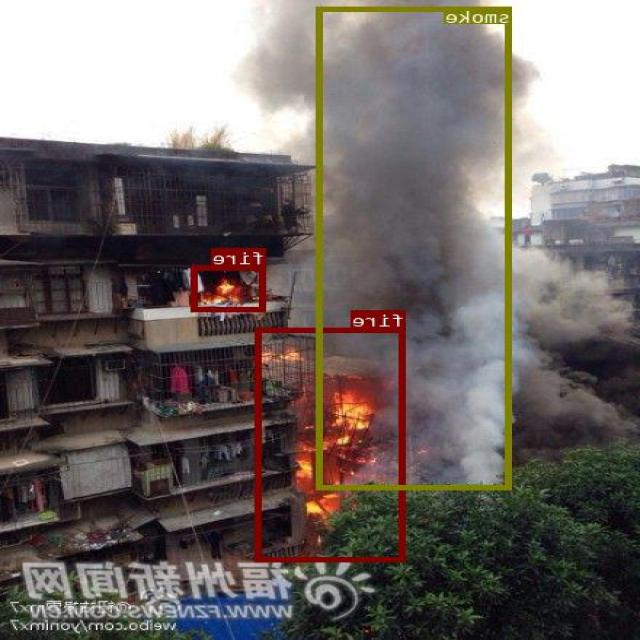fire: (258, 326, 407, 561), (193, 264, 266, 311)
smoke: (317, 6, 512, 488)
